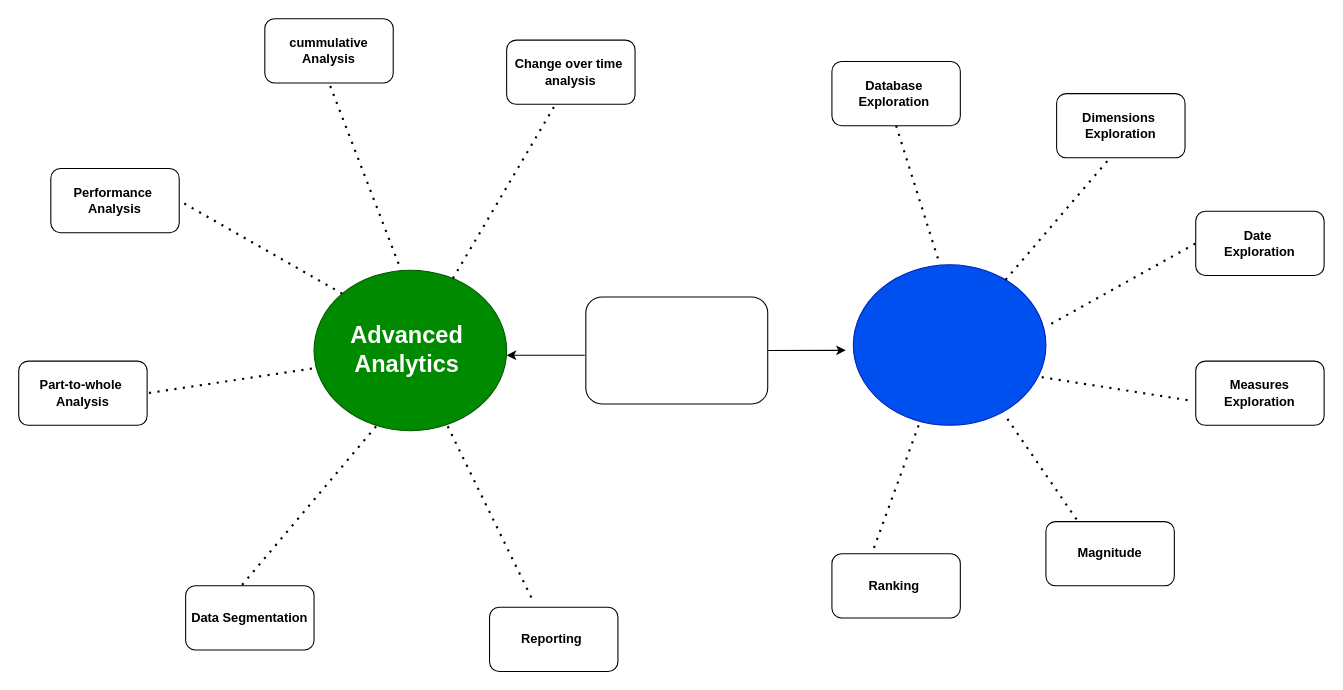
This 1343x690 diagram has some shape labels left out. The centre of each missing label's shape, as x and y in pixels:
"Data Analytics" goes at point 676,350.
"Exploratory Data Analysis (EDA )" goes at point 949,344.
